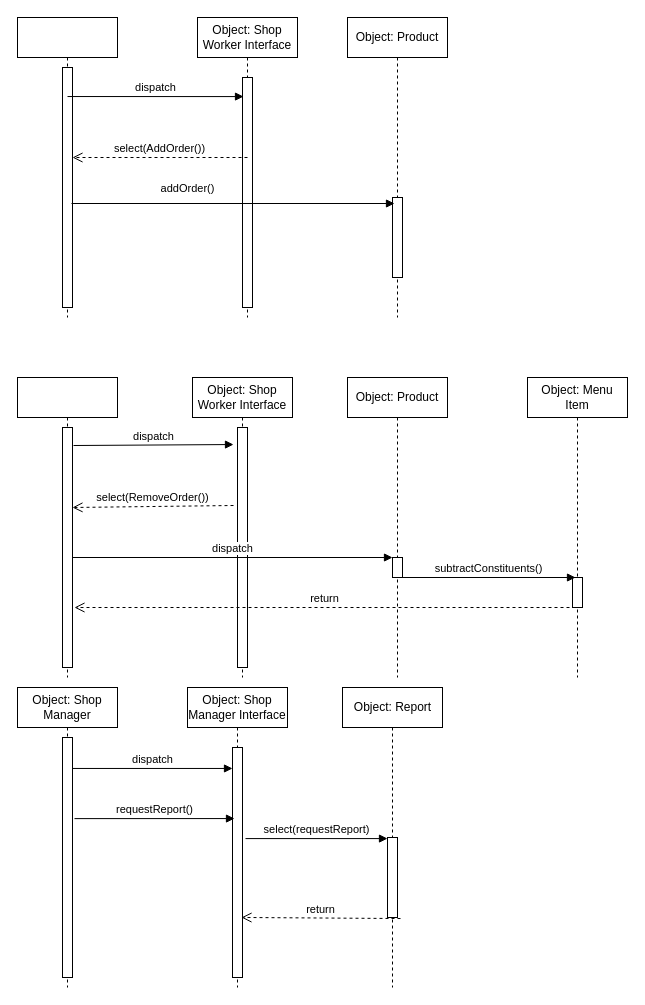
This 645x1005 diagram has some shape labels left out. Each missing label, with the box of its shape:
Object: Shop worker: (16, 376, 118, 678)
Object:Shop Worker: (16, 16, 118, 318)
